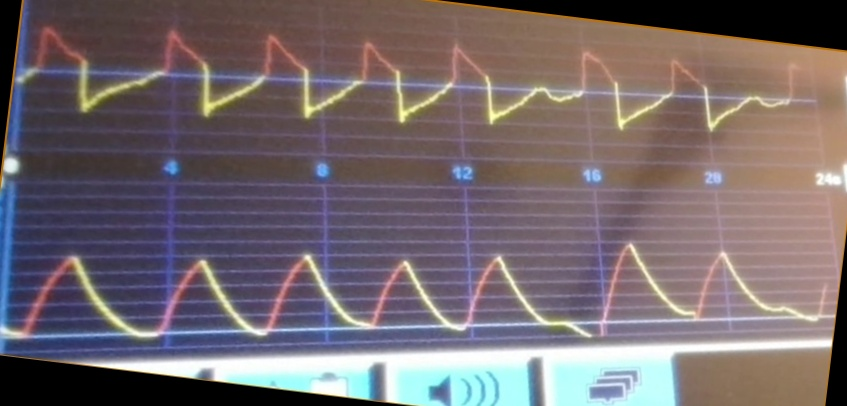Ineffective_effort Flow: (27, 22, 799, 142)
Ineffective_effort Volume: (11, 233, 830, 342)
